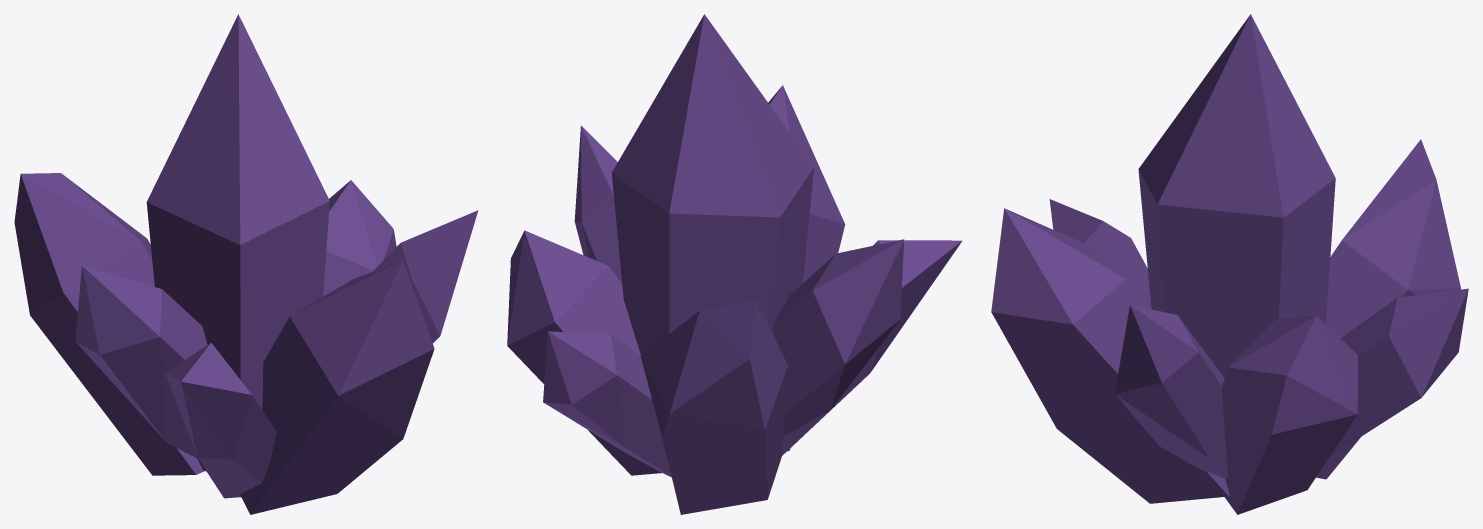
File: CrystalA.fbx
3 renders of one model, left to right at view 1: azimuth 30°, elevation 25°; view 2: azimuth 150°, elevation 25°; view 3: azimuth 270°, elevation 25°, orthographic. The views are drawn at different scales.
Parts seen in each view (by area): view 1: CrystalA; view 2: CrystalA; view 3: CrystalA.
Boxes of the visible parts, <box> form: CrystalA: <box>14,14,478,514</box>; CrystalA: <box>507,14,962,514</box>; CrystalA: <box>991,14,1468,514</box>.
Bounding box in the file's own units: 37.78 × 46.76 × 42.83.
